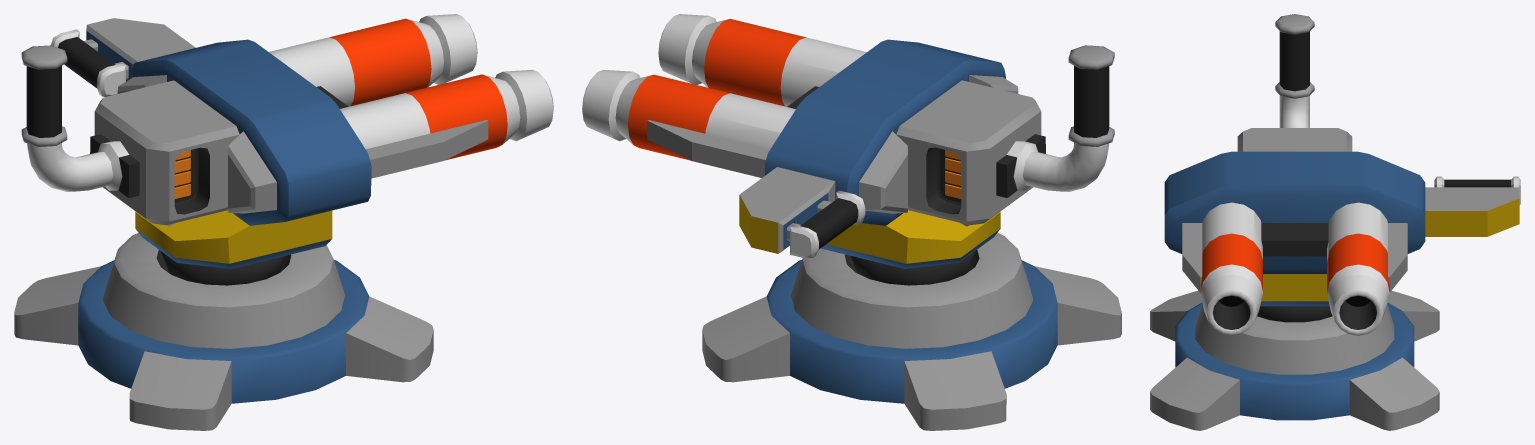
The model's file is TurretLaser.FBX.
3 renders of one model, left to right at view 1: azimuth 30°, elevation 25°; view 2: azimuth 150°, elevation 25°; view 3: azimuth 270°, elevation 25°, orthographic. The views are drawn at different scales.
Visible parts, largest first — view 1: RapidLaserTurret, TurretBase, Handle, Trigger; view 2: RapidLaserTurret, TurretBase, Handle, Trigger; view 3: RapidLaserTurret, TurretBase, Handle, Trigger.
Part boxes in pixels (bbox=[...]): RapidLaserTurret: bbox=[26, 14, 553, 285]; TurretBase: bbox=[14, 233, 433, 430]; Handle: bbox=[21, 45, 67, 146]; Trigger: bbox=[51, 29, 128, 96]; RapidLaserTurret: bbox=[582, 14, 1109, 285]; TurretBase: bbox=[702, 232, 1121, 430]; Handle: bbox=[1068, 45, 1114, 146]; Trigger: bbox=[787, 190, 865, 258]; RapidLaserTurret: bbox=[1164, 95, 1519, 335]; TurretBase: bbox=[1150, 290, 1439, 430]; Handle: bbox=[1275, 14, 1314, 98]; Trigger: bbox=[1434, 176, 1520, 205].
Bounding box in the file's own units: 293 × 197 × 237.
